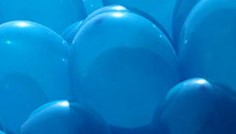Balloon: (67, 8, 177, 122), (1, 20, 74, 125), (153, 78, 236, 134)
